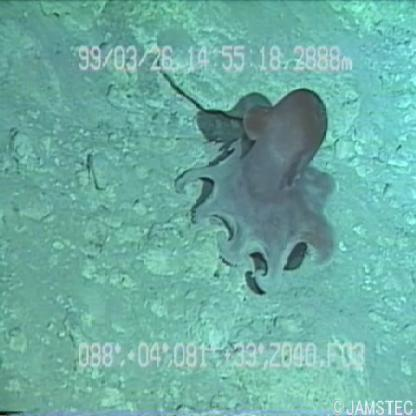Bio: (176, 81, 339, 300)
